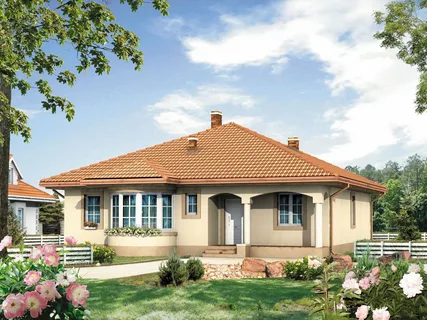private_hause: (47, 131, 384, 261)
